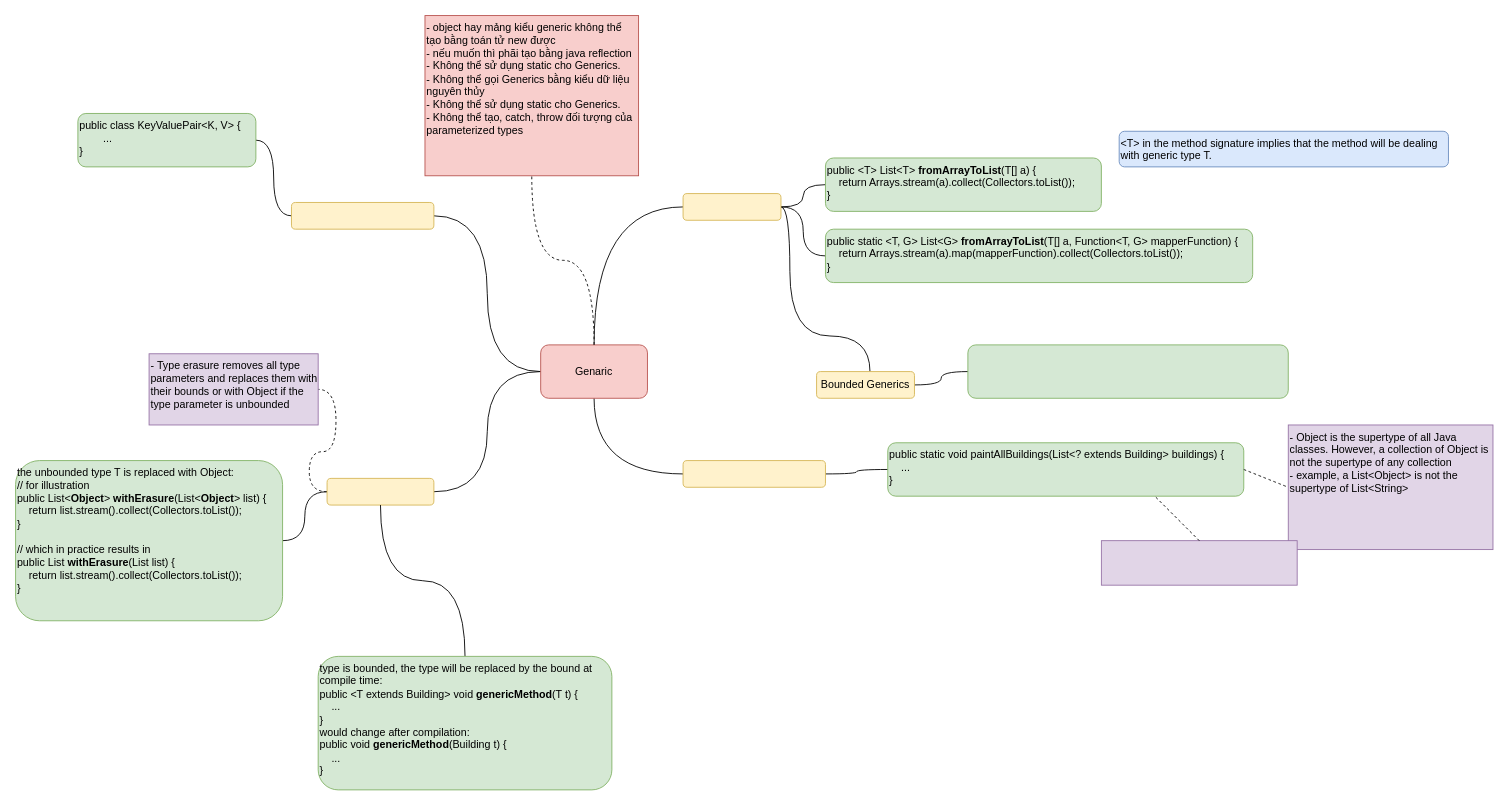
Some shapes in this 1509 by 805 pixel diagram are drawn without their labels. The box of each missing label's shape, as (x1, y1, x2, y2) in pixels:
Genaric methods: (682, 193, 781, 220)
Generic cho Class và Interface: (291, 202, 434, 229)
public <T extends Number> List<T> fromArrayToList (T[] a) { ... }: (967, 344, 1288, 398)
this method will work with type Building and all its subtypes.: (1100, 540, 1297, 585)
Type Erasure: (326, 477, 434, 505)
Using Wildcards With Generics: (682, 460, 825, 487)
